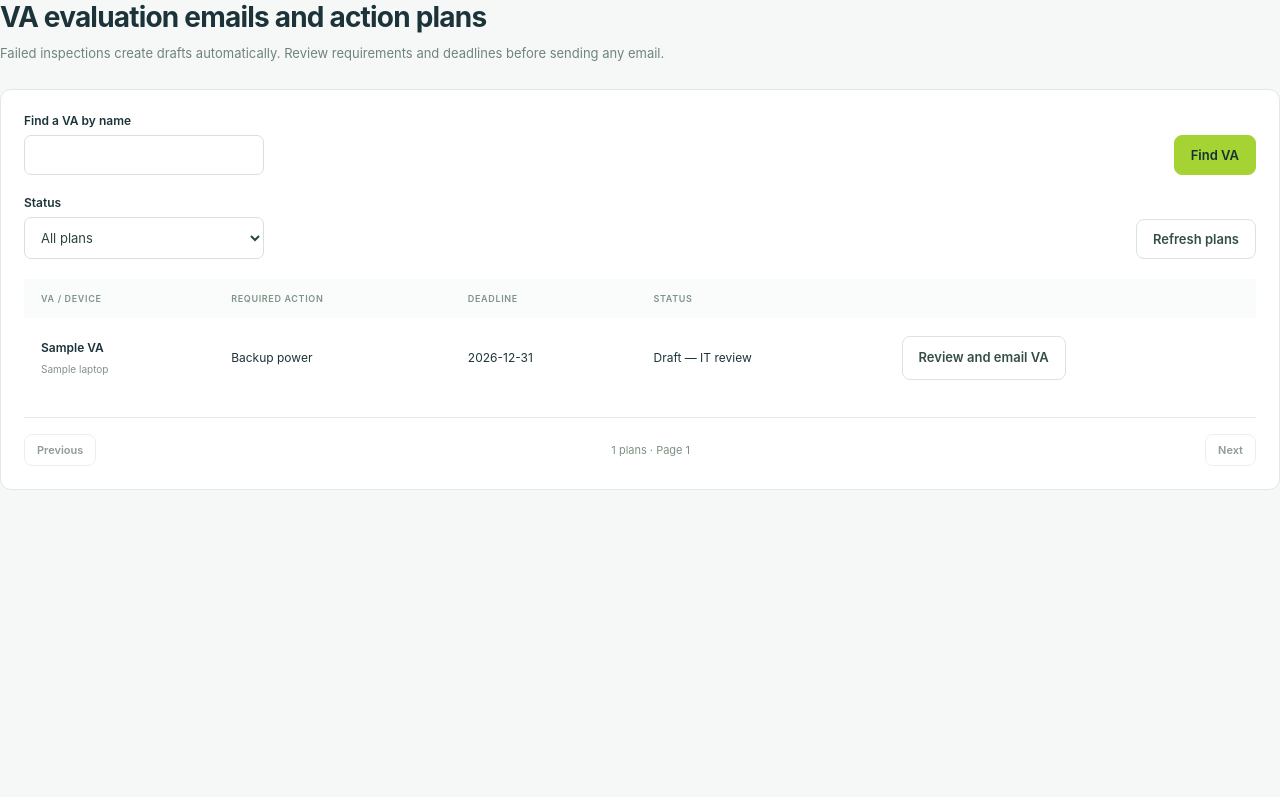
it: reviewed action emails › requires changed draft fields to be saved before preview
Click the button "Review and email VA".
click(984, 358)  # box left=902, top=336, right=1066, bottom=380
(page scrolled)
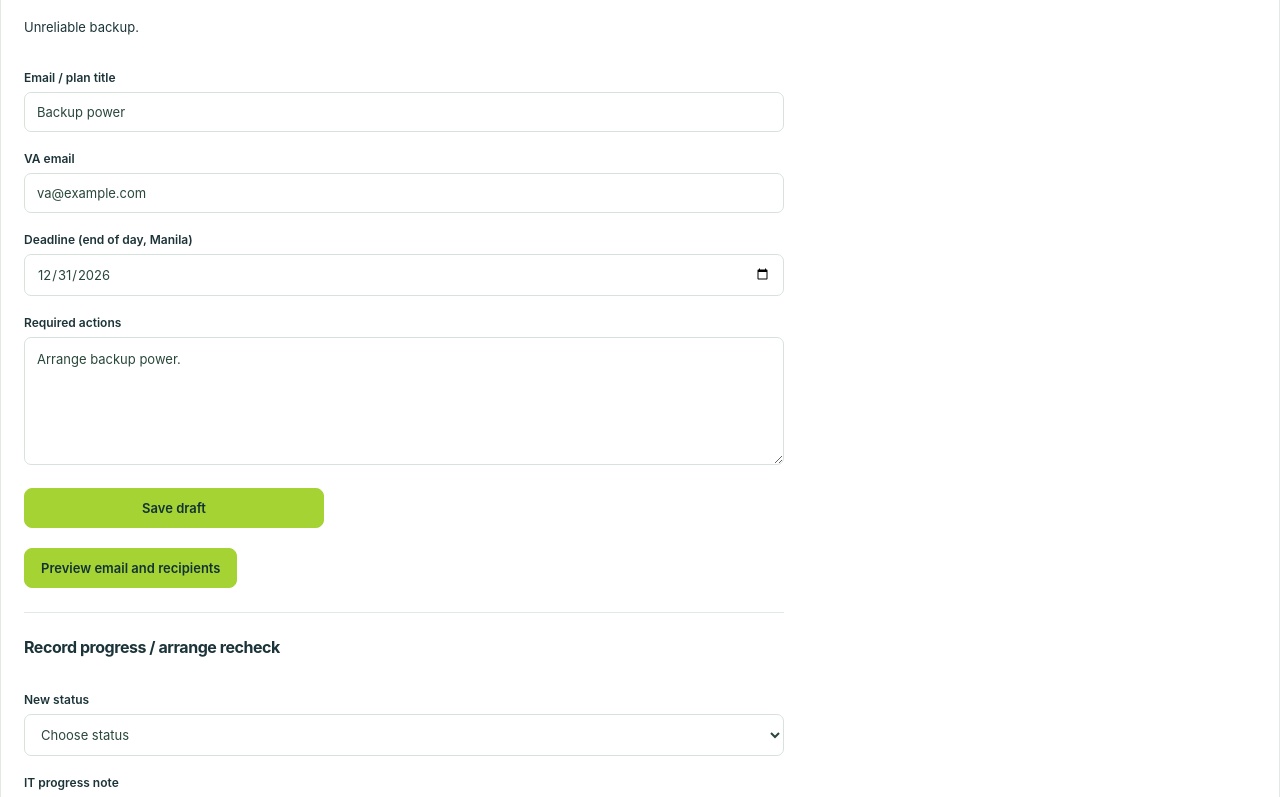
Expected: the text box labelled "Required actions" is shown
Replace the text in the text box labelled "Required actions" with "Upgrade RAM and arrange backup power." at [404, 401], box left=24, top=337, right=784, bottom=465
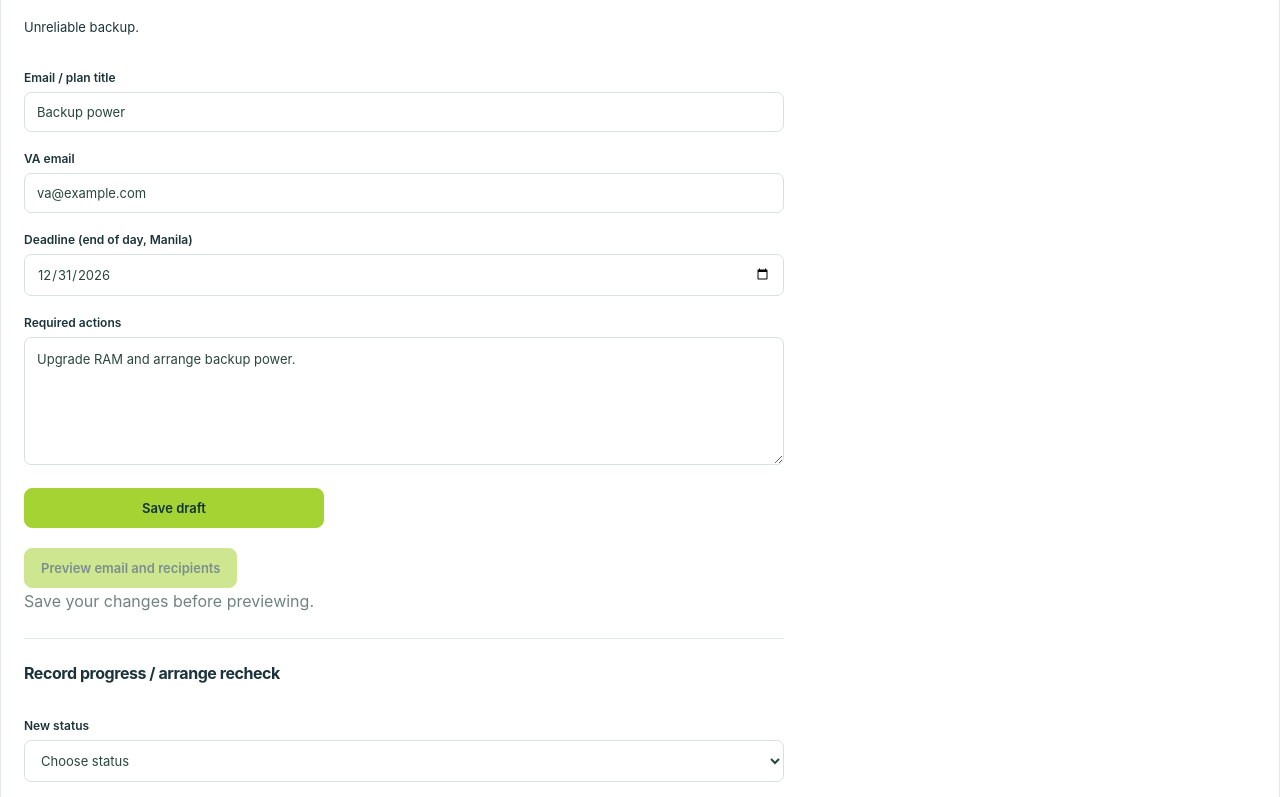
Expected: the button "Preview email and recipients" is disabled, left=24, top=548, right=238, bottom=588
Submit the form labelled "Required actions", box left=24, top=51, right=784, bottom=528
(page scrolled)
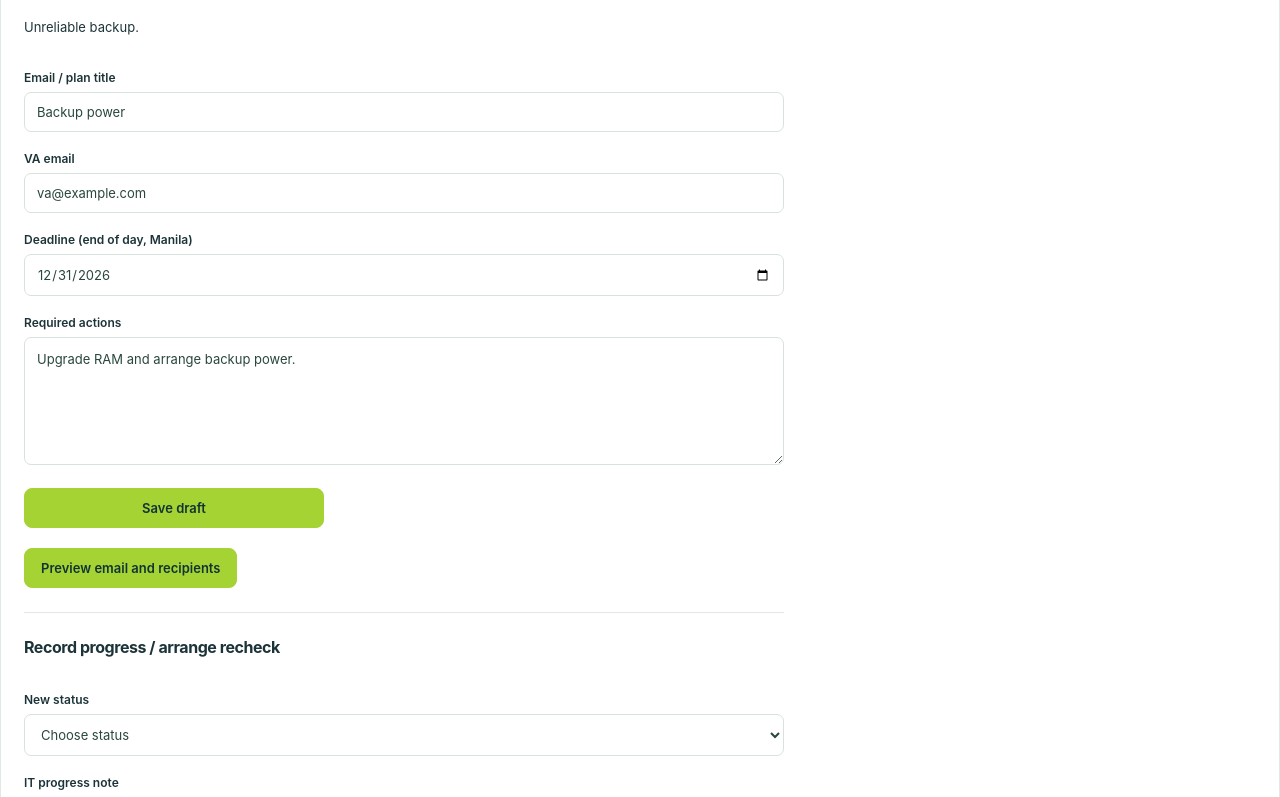
Expected: the button "Preview email and recipients" is enabled, left=24, top=548, right=238, bottom=588
